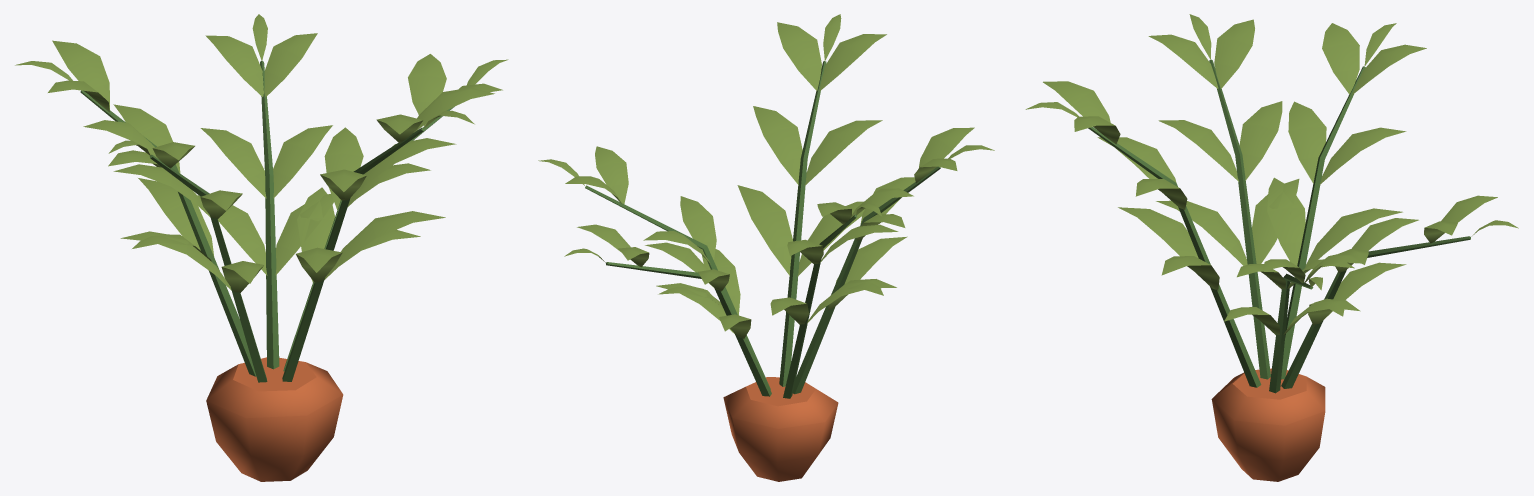
The model's file is crop_carrot_mature.glb.
3 views of the same model, side by side, from view 1: azimuth 30°, elevation 25°; view 2: azimuth 150°, elevation 25°; view 3: azimuth 270°, elevation 25° (orthographic). The views are drawn at different scales.
Visible parts, largest first — view 1: carrot_frond_0_p_0_1, carrot_root, carrot_frond_0_rachis; view 2: carrot_frond_0_p_0_1, carrot_root, carrot_frond_0_rachis; view 3: carrot_frond_0_p_0_1, carrot_frond_0_rachis, carrot_root.
Part boxes in pixels (bbox=[...]): carrot_frond_0_p_0_1: bbox=[15, 14, 508, 292]; carrot_root: bbox=[206, 357, 343, 481]; carrot_frond_0_rachis: bbox=[80, 60, 454, 382]; carrot_frond_0_p_0_1: bbox=[538, 14, 994, 338]; carrot_root: bbox=[723, 377, 838, 481]; carrot_frond_0_rachis: bbox=[585, 61, 940, 398]; carrot_frond_0_p_0_1: bbox=[1025, 14, 1518, 334]; carrot_frond_0_rachis: bbox=[1088, 59, 1470, 393]; carrot_root: bbox=[1211, 368, 1325, 481].
Size of the model in its own units: 0.5175 by 0.4517 by 0.5174.
